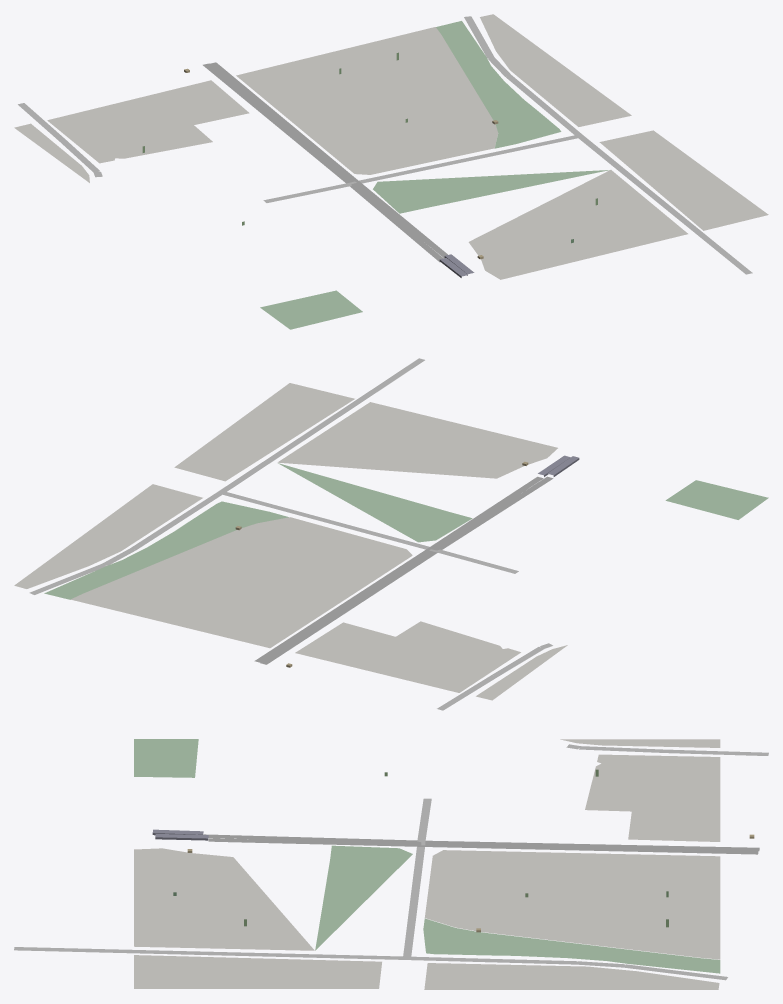
3 renders of one model, top to bottom at view 1: azimuth 30°, elevation 25°; view 2: azimuth 150°, elevation 25°; view 3: azimuth 270°, elevation 25°, orthographic. The views are drawn at different scales.
Bounding box in the file's own units: 500 × 9.25 × 644.
